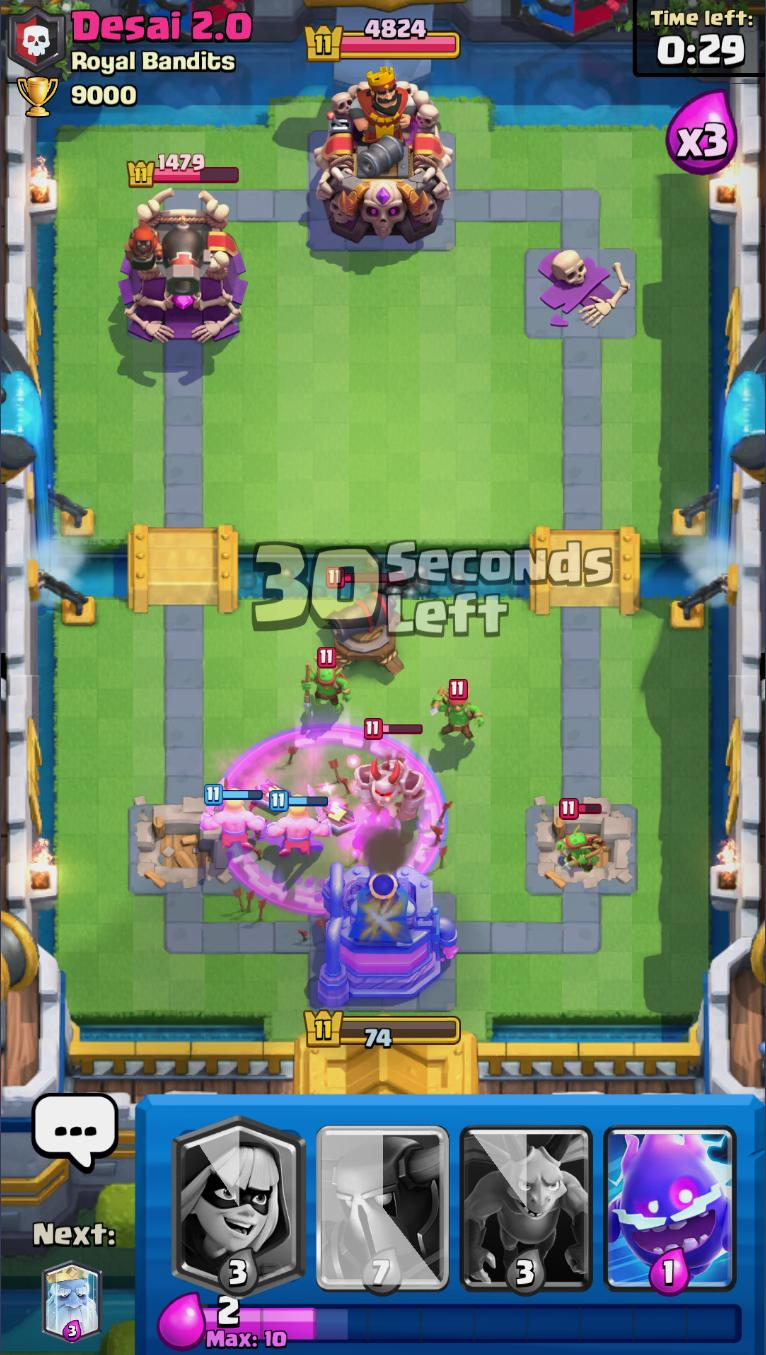BanditDeck: (167, 1096, 313, 1296)
Cannon: (323, 565, 405, 677)
Cannoneer: (124, 215, 206, 298)
ElectroSpiritDeck: (601, 1098, 741, 1296)
Elixir: (201, 1295, 744, 1349)
EnemyTower: (119, 188, 249, 346)
EnemyTowerBrocken: (522, 249, 639, 341)
KingTower: (312, 65, 455, 247)
KingTowerHP: (301, 18, 460, 65)
MegaMinion: (356, 719, 426, 825)
MinionsDeck: (453, 1098, 601, 1296)
MyBandit: (199, 781, 266, 852), (266, 788, 331, 857)
MyKingHP: (302, 1006, 462, 1051)
MyKingTower: (314, 859, 458, 1008)
MyPrincessTowerBrocken: (124, 796, 246, 896), (522, 799, 641, 898)
PekkaDeck: (311, 1097, 455, 1295)
Rage: (219, 721, 446, 913)
RoyaleGhostNext: (40, 1260, 103, 1343)
SpearGoblin: (556, 797, 607, 872), (301, 645, 354, 713), (431, 678, 485, 744)
TowerPrincessHP: (127, 154, 242, 191)
